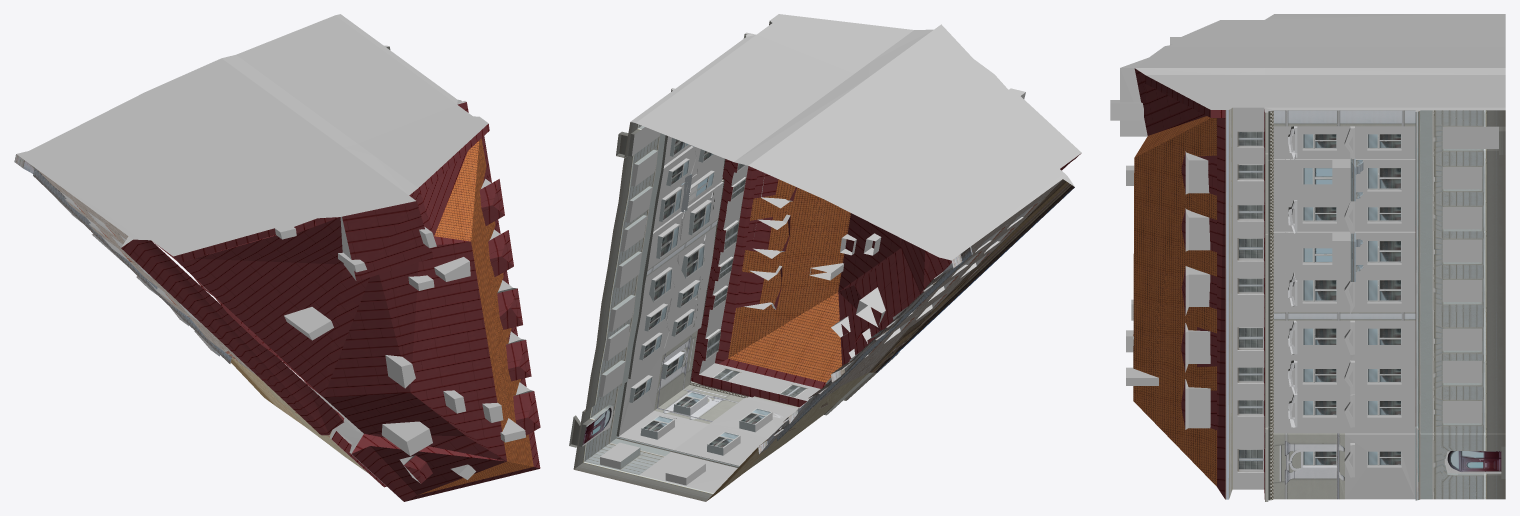
The model's file is Kinga_1-origo.obj.
3 views of the same model, side by side, from view 1: azimuth 30°, elevation 25°; view 2: azimuth 150°, elevation 25°; view 3: azimuth 270°, elevation 25° (orthographic).
Parts seen in each view (by area): view 1: Kinga_1; view 2: Kinga_1; view 3: Kinga_1.
Part boxes in pixels (x1,y1,x2,y2): Kinga_1: [14, 14, 540, 501]; Kinga_1: [569, 14, 1081, 501]; Kinga_1: [1110, 14, 1505, 501].
Bounding box in the file's own units: 27.31 × 24.5 × 23.82.
